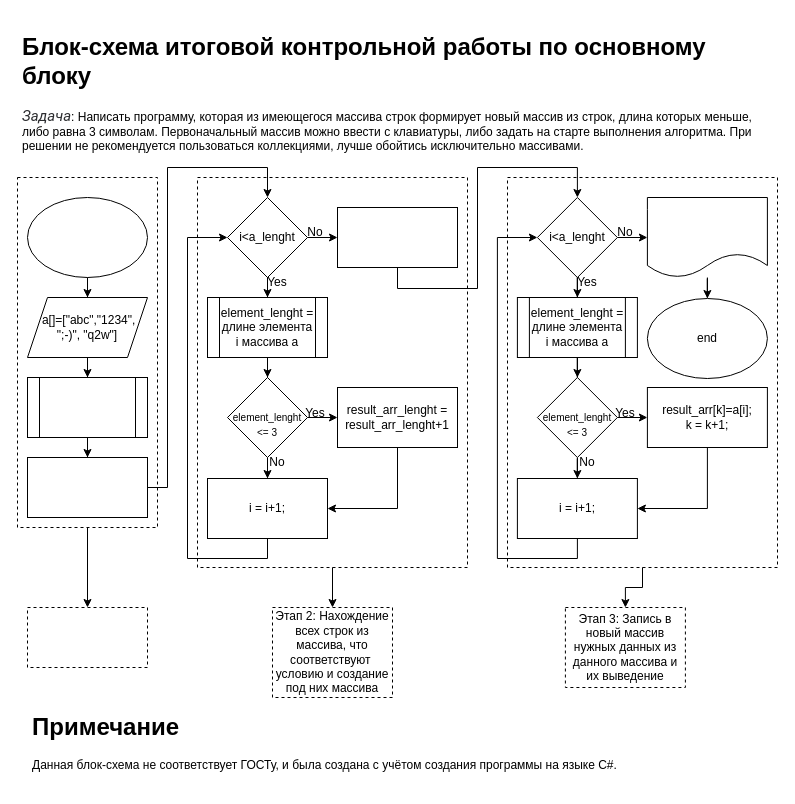
This 795x804 diagram has some shape labels left out. The shapes that lost their labels are listed below. From the top down, each one's centre as x and y in pixels, then its label:
At pixel 87 237: "start".
At pixel 397 237: "result_arr[] = [result_arr_lenght]; k = 0;".
At pixel 706 237: "result_arr[]".
At pixel 87 407: "a_lenght = количеству элементов массива а".
At pixel 87 487: "i = 0; result_arr_lenght = 0;".
At pixel 87 637: "Этап 1: создание массива строк и переменных для этапа 2".
